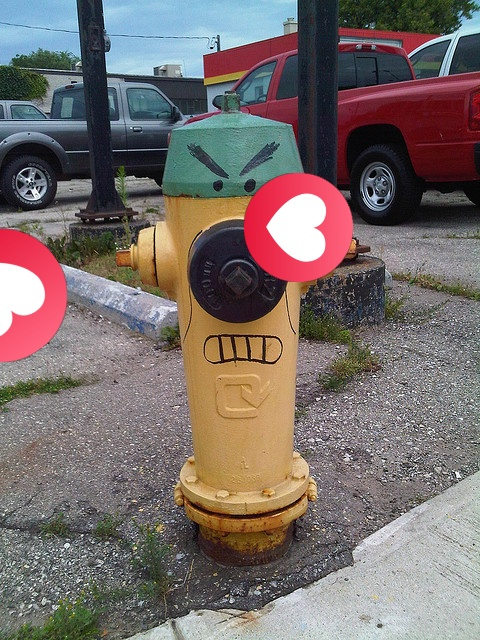love: (244, 173, 353, 282), (0, 229, 67, 362)
